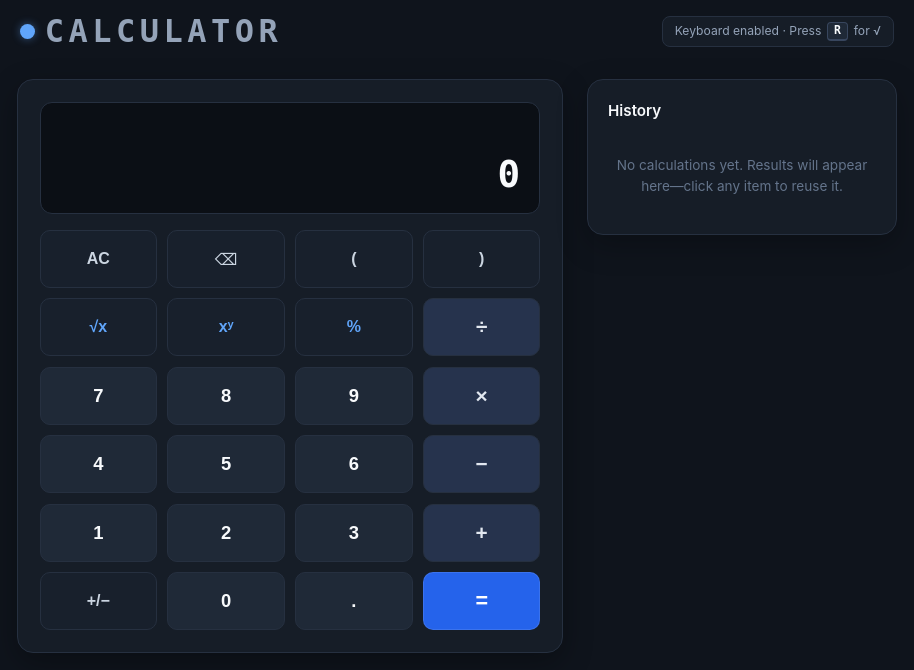
App Calculator UI & Integration › renders exponentiation with visual superscript element (5²)
Click the button "5".
click(226, 464)  # box [167, 435, 285, 493]
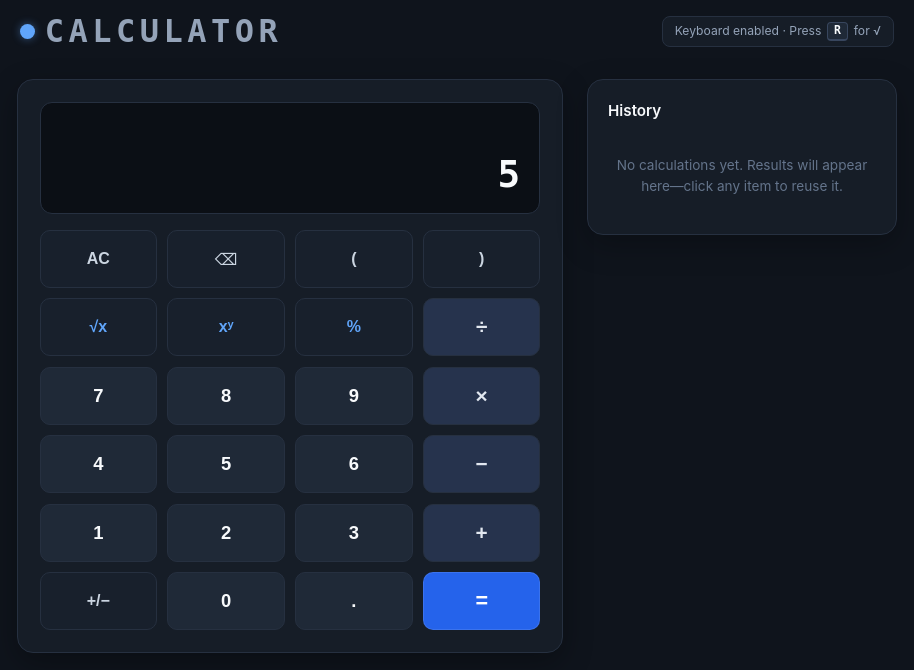
Click the button with aria-label "Power".
click(226, 327)  # box [167, 298, 285, 356]
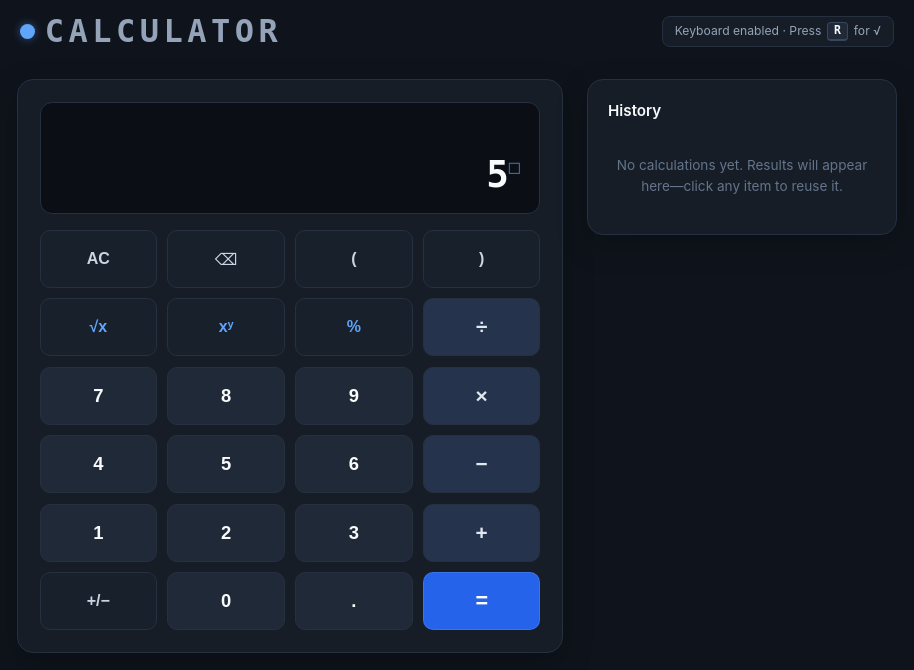
Now the text with class "exponent-placeholder" reads "□", box [509, 156, 519, 177]
Click the button "2".
click(226, 533)  # box [167, 504, 285, 562]
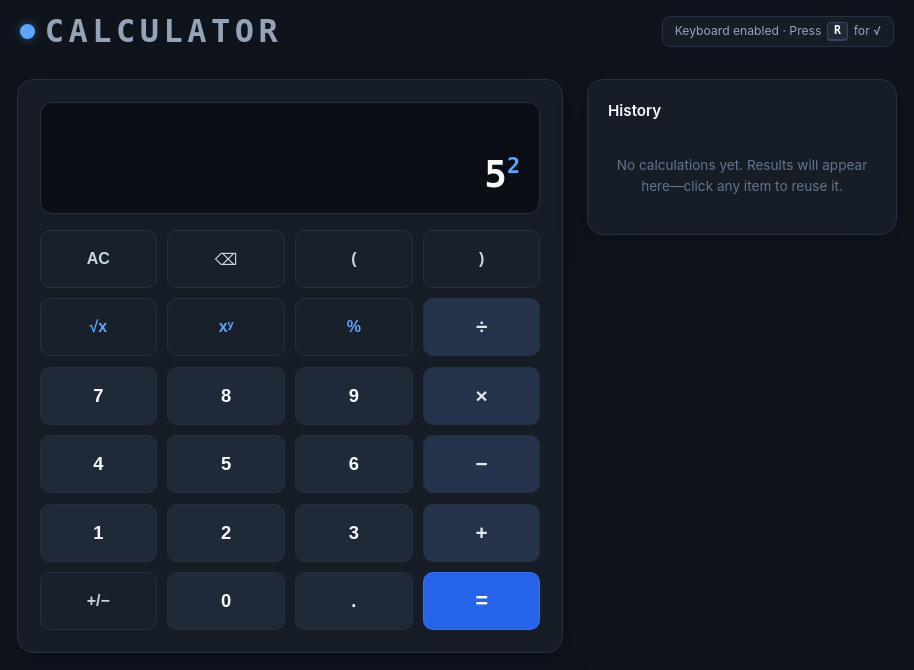
Now the text with class "exponent-placeholder" reads "2", box [507, 153, 519, 178]
Now the message with test id "calculator-display" reads "52", box [484, 152, 519, 197]
